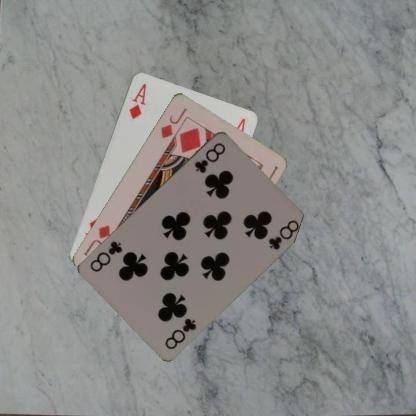8c: (190, 139, 228, 176), (161, 315, 200, 350)
Ad: (126, 80, 148, 120)
Jd: (158, 105, 189, 139)
